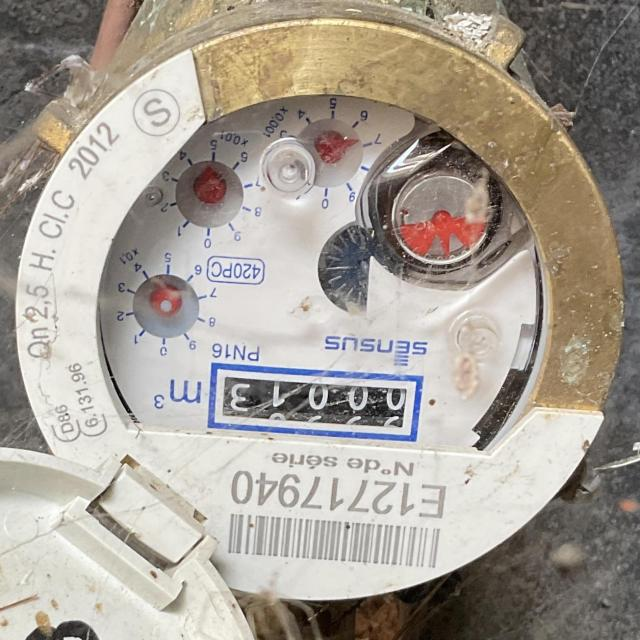gaz_meter: (18, 20, 623, 602)
indication: (214, 367, 418, 437)
